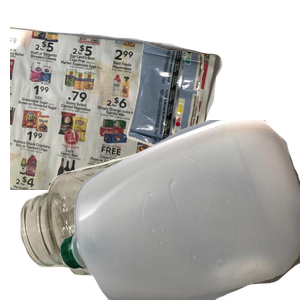glass: (18, 143, 227, 300)
paper: (10, 22, 225, 202)
plastic: (60, 120, 300, 300)
trash: (124, 40, 300, 188)
